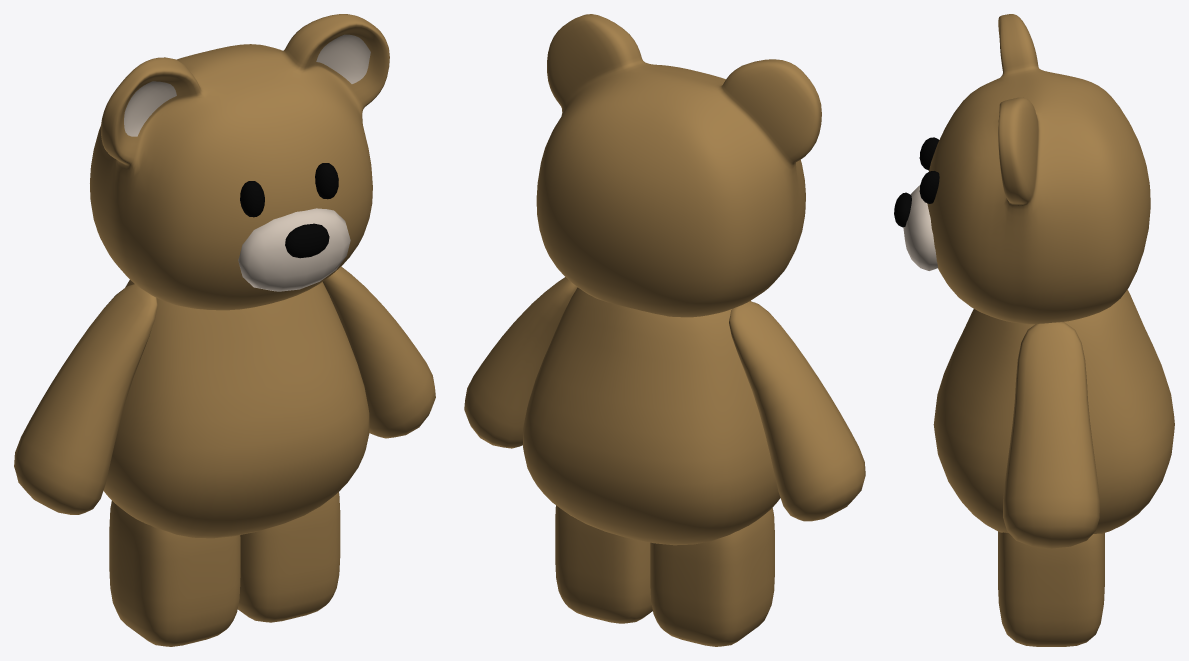
Rendered from bear_model.fbx.
3 renders of one model, left to right at view 1: azimuth 30°, elevation 25°; view 2: azimuth 150°, elevation 25°; view 3: azimuth 270°, elevation 25°, orthographic. The views are drawn at different scales.
Visible parts, largest first — view 1: Bear_highRes; view 2: Bear_highRes; view 3: Bear_highRes.
Boxes of the visible parts, x1,y1,x2,y2 form: Bear_highRes: (14,14,435,646); Bear_highRes: (464,14,865,646); Bear_highRes: (894,14,1174,646).
Size of the model in its own units: 8.12 by 11.43 by 5.26.
